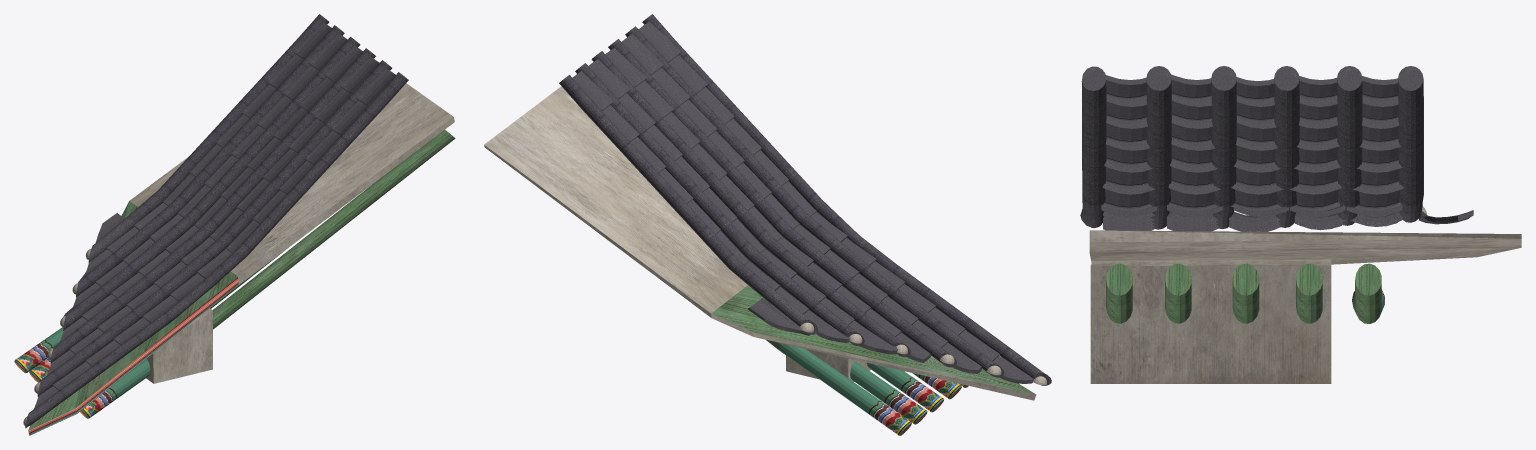
Rendered from SM_R_RoofCornerCut_5.fbx.
The picture shows the model from 3 angles, left to right: view 1: azimuth 30°, elevation 25°; view 2: azimuth 150°, elevation 25°; view 3: azimuth 270°, elevation 25°; orthographic projection. The views are drawn at different scales.
Parts seen in each view (by area): view 1: SM_R_RoofCornerCut_5; view 2: SM_R_RoofCornerCut_5; view 3: SM_R_RoofCornerCut_5.
Boxes of the visible parts, box(x1,y1,x2,y2) form: SM_R_RoofCornerCut_5: box(14, 14, 455, 435); SM_R_RoofCornerCut_5: box(484, 14, 1051, 435); SM_R_RoofCornerCut_5: box(1080, 66, 1521, 383).
Bounding box in the file's own units: 911 × 396 × 547.
4 materials, 4 textured.
